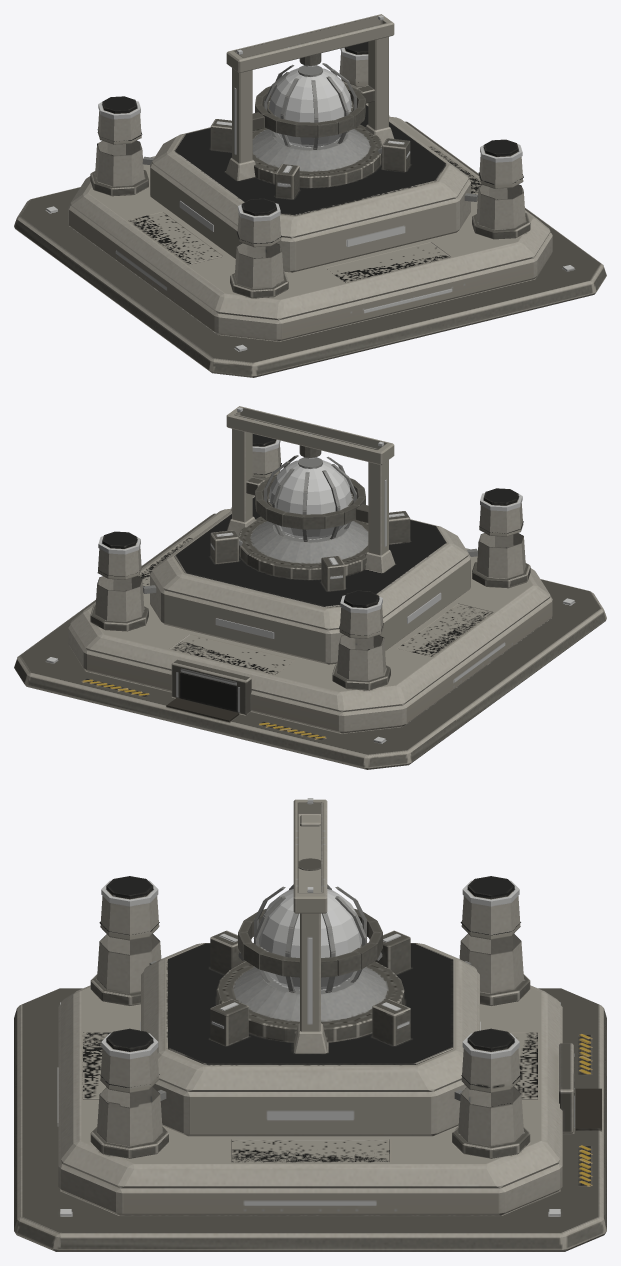
The model's file is ord_fusion.fbx.
The picture shows the model from 3 angles, top to bottom: view 1: azimuth 30°, elevation 25°; view 2: azimuth 150°, elevation 25°; view 3: azimuth 270°, elevation 25°; orthographic projection. The views are drawn at different scales.
Parts seen in each view (by area): view 1: base_bar, core_glow_power_bar, base_glow_power_bar, base_glow_running_bar; view 2: base_bar, core_glow_power_bar, base_glow_power_bar, base_glow_running_bar; view 3: base_bar, core_glow_power_bar, base_glow_power_bar, base_glow_running_bar.
Part boxes in pixels (left/top/right/bottom): base_bar: left=14, top=14, right=606, bottom=377; core_glow_power_bar: left=269, top=68, right=351, bottom=146; base_glow_power_bar: left=98, top=47, right=522, bottom=246; base_glow_running_bar: left=46, top=15, right=574, bottom=351; base_bar: left=14, top=406, right=606, bottom=769; core_glow_power_bar: left=269, top=460, right=351, bottom=538; base_glow_power_bar: left=98, top=439, right=522, bottom=638; base_glow_running_bar: left=46, top=407, right=574, bottom=743; base_bar: left=14, top=799, right=606, bottom=1251; core_glow_power_bar: left=258, top=889, right=362, bottom=989; base_glow_power_bar: left=101, top=880, right=519, bottom=1120; base_glow_running_bar: left=57, top=798, right=574, bottom=1216.
Size of the model in its own units: 3152 by 1865 by 3152.
2 materials, 2 textured.
